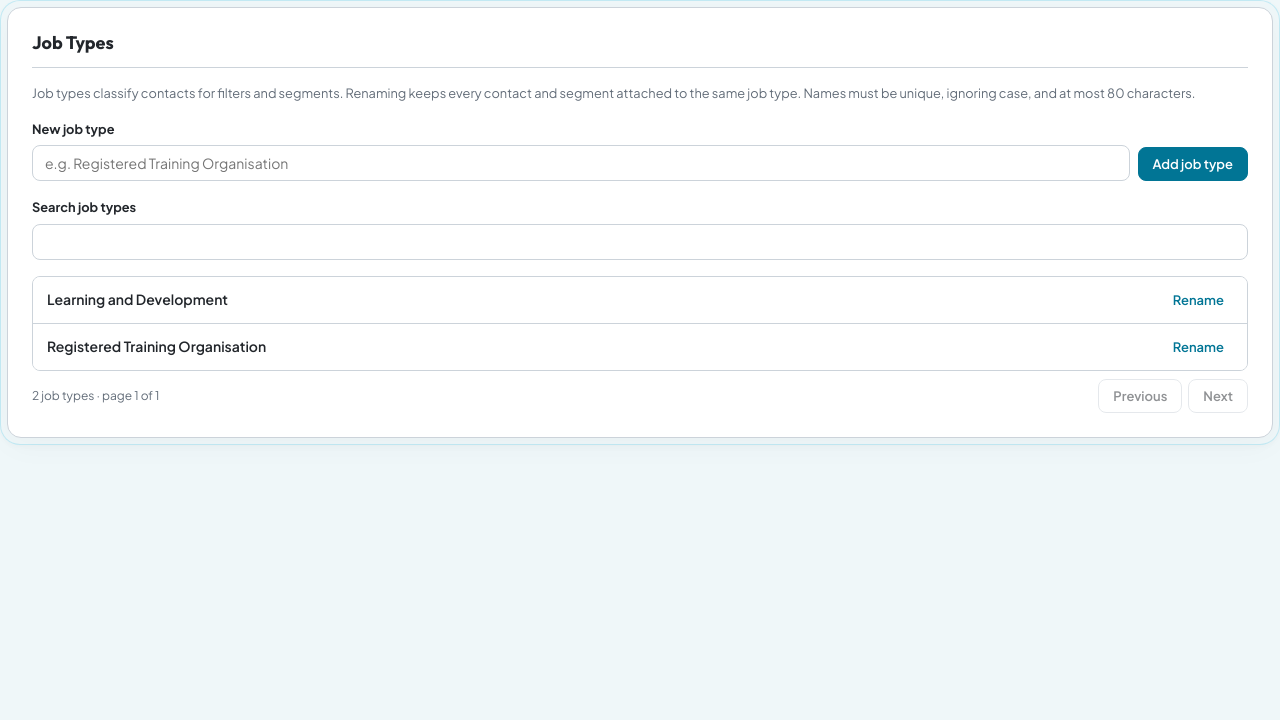
Test case: JobTypesSettings › shows a rename conflict and keeps the editor open
expect the text "Registered Training Organisation" is shown: met, box [47, 337, 266, 355]
Click the button with aria-label "Rename Registered Training Organisation" at [1198, 347], box [1164, 334, 1233, 360]
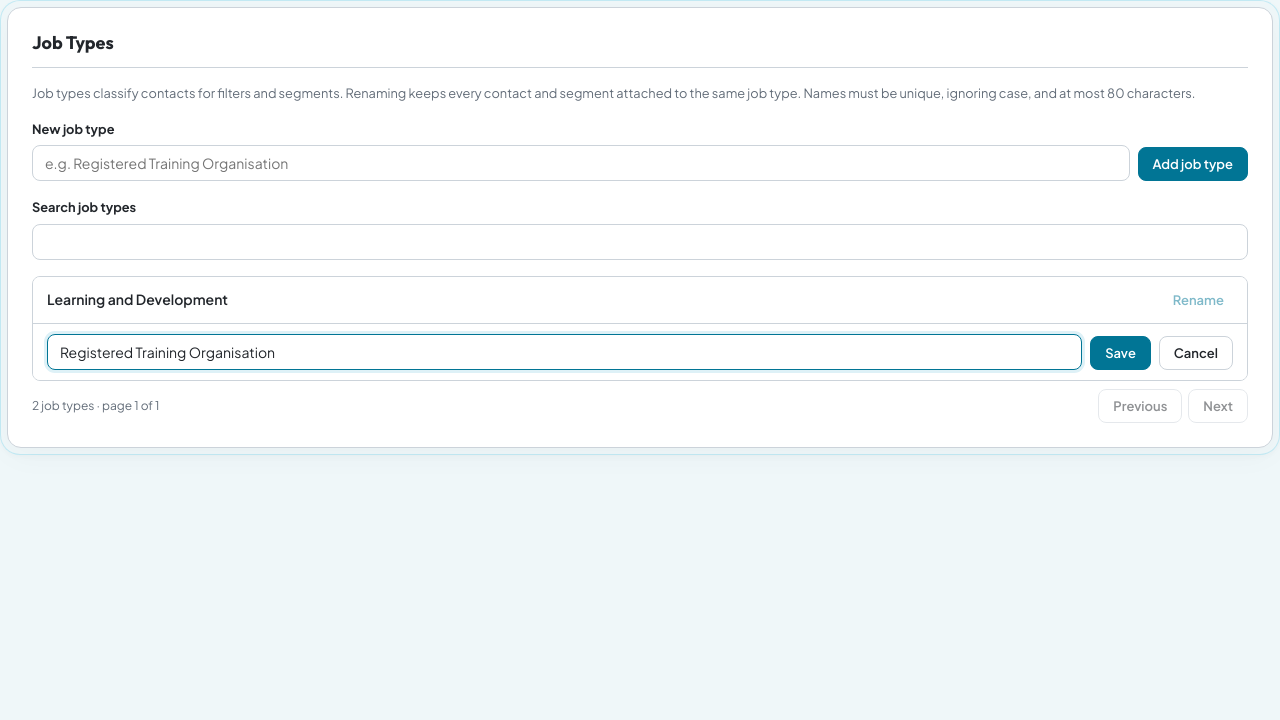
Replace the text in the field named "New name for Registered Training Organisation" with "Corporate" at [565, 352], box [47, 334, 1082, 370]
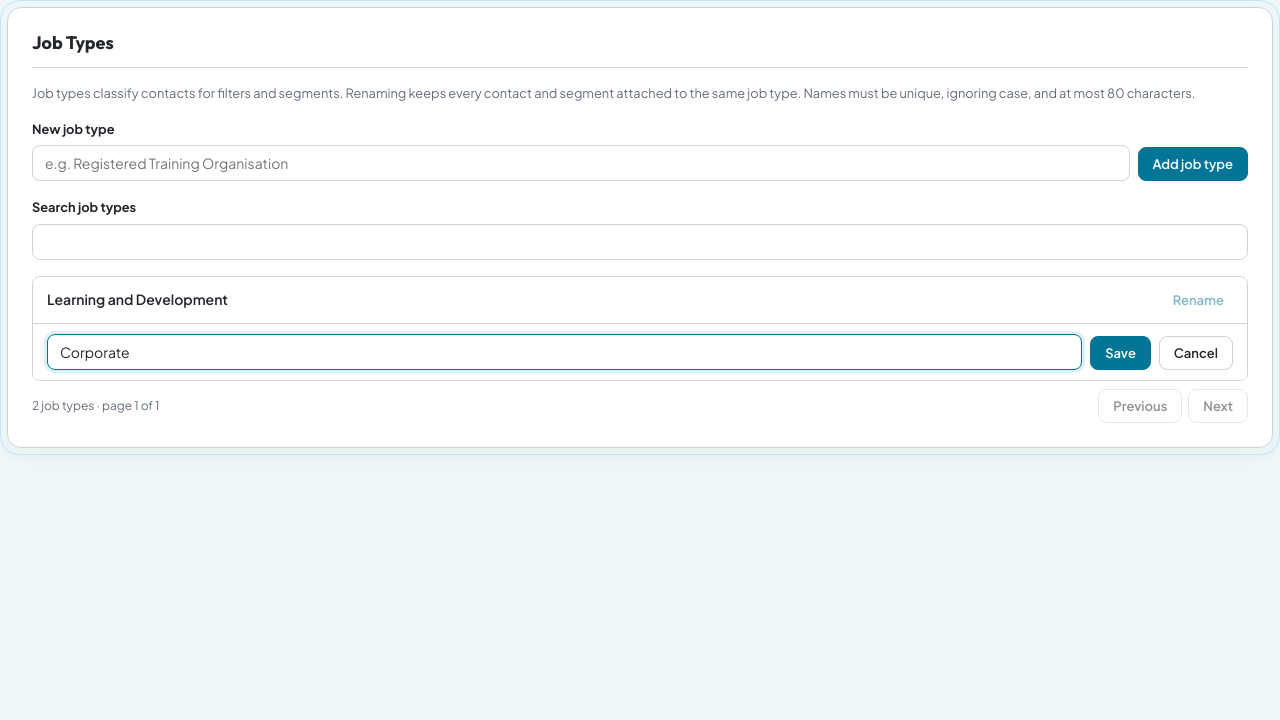
Submit the form from the field named "New name for Registered Training Organisation", box [47, 334, 1082, 370]
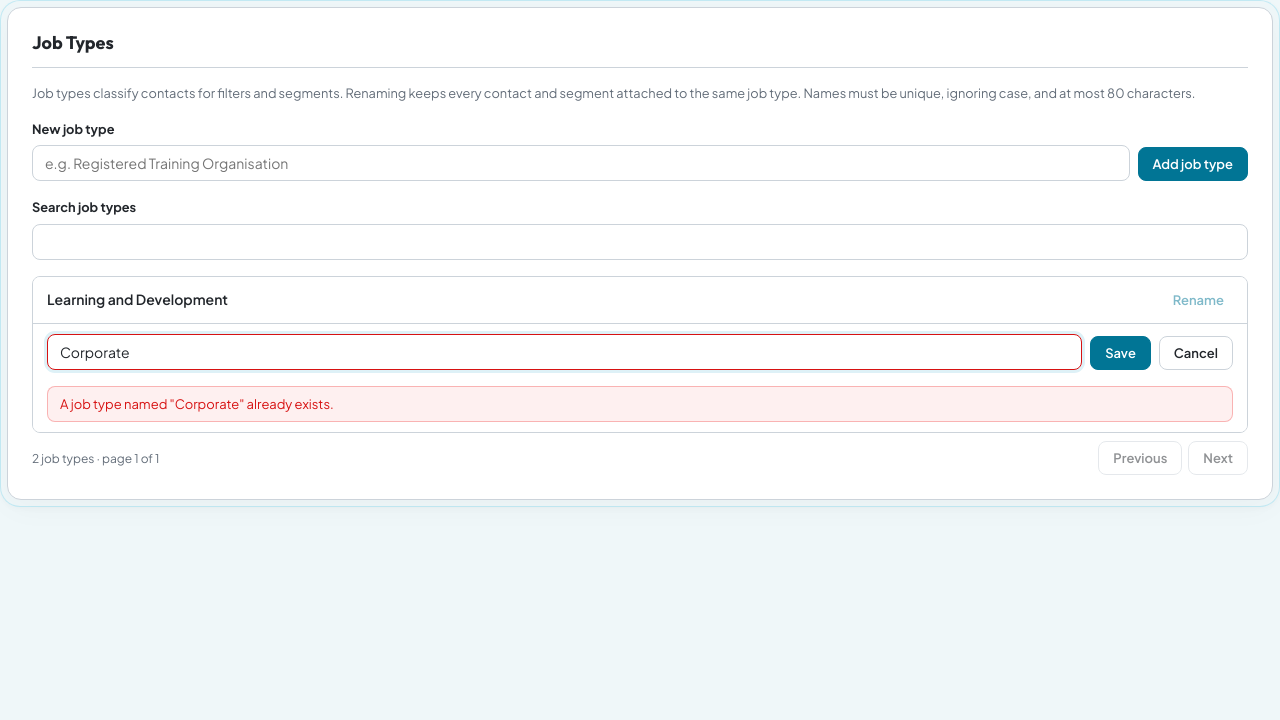
expect the message shows "already exists": met, box [60, 396, 334, 412]
